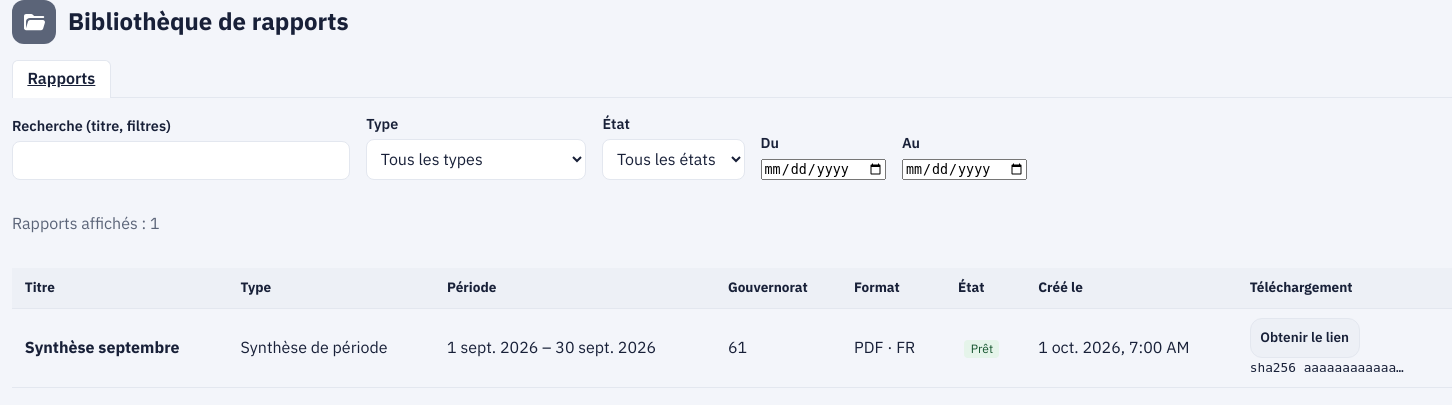
it: Reports library › maps API errors (report not ready)
Click the button with aria-label "Synthèse septembre". click: (1305,338)
box: [1250,318,1360,358]
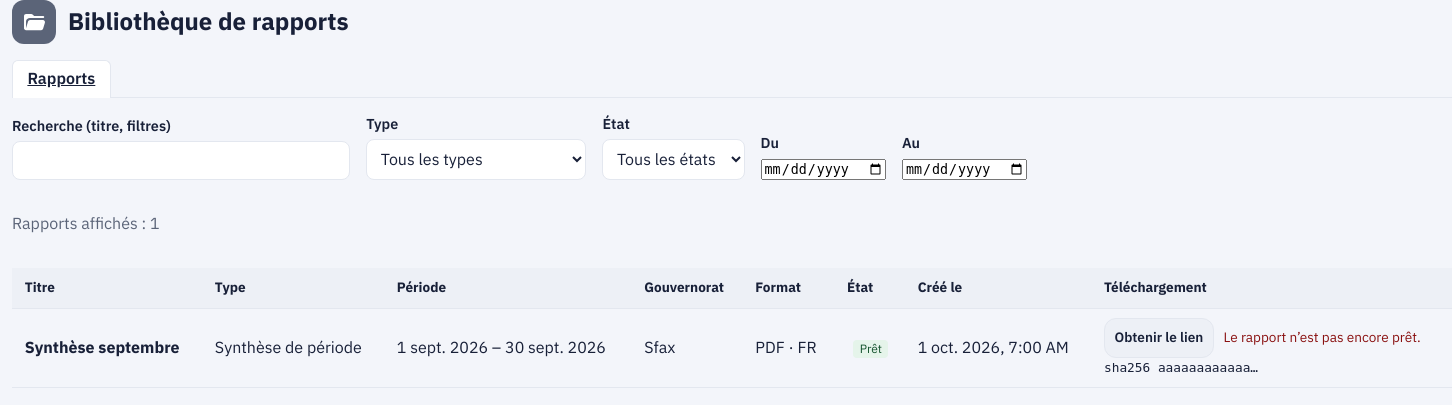
Now the text "Le rapport n’est pas encore prêt." is shown, box [1224,328,1421,348]
